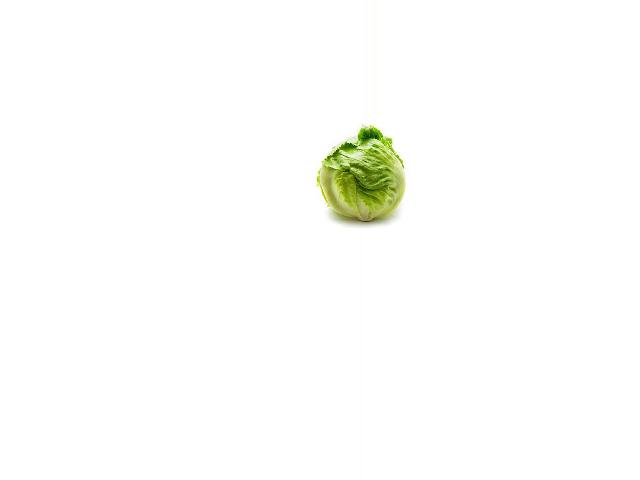lettuce: (309, 125, 408, 225)
